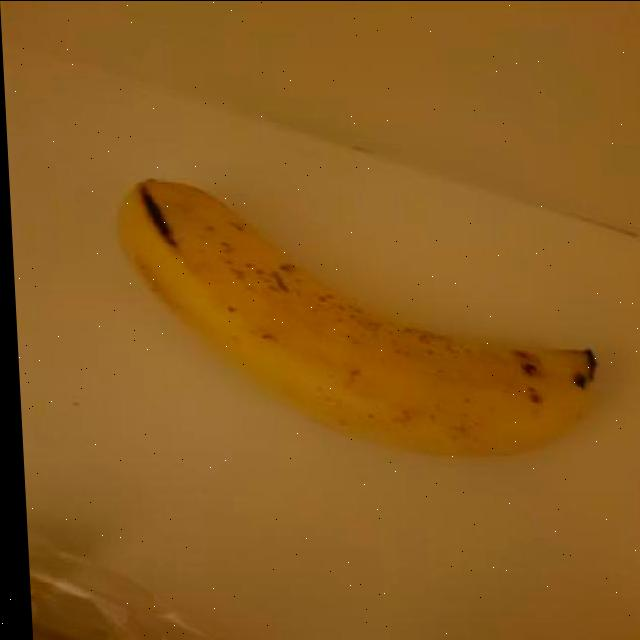banana: (101, 167, 621, 467)
